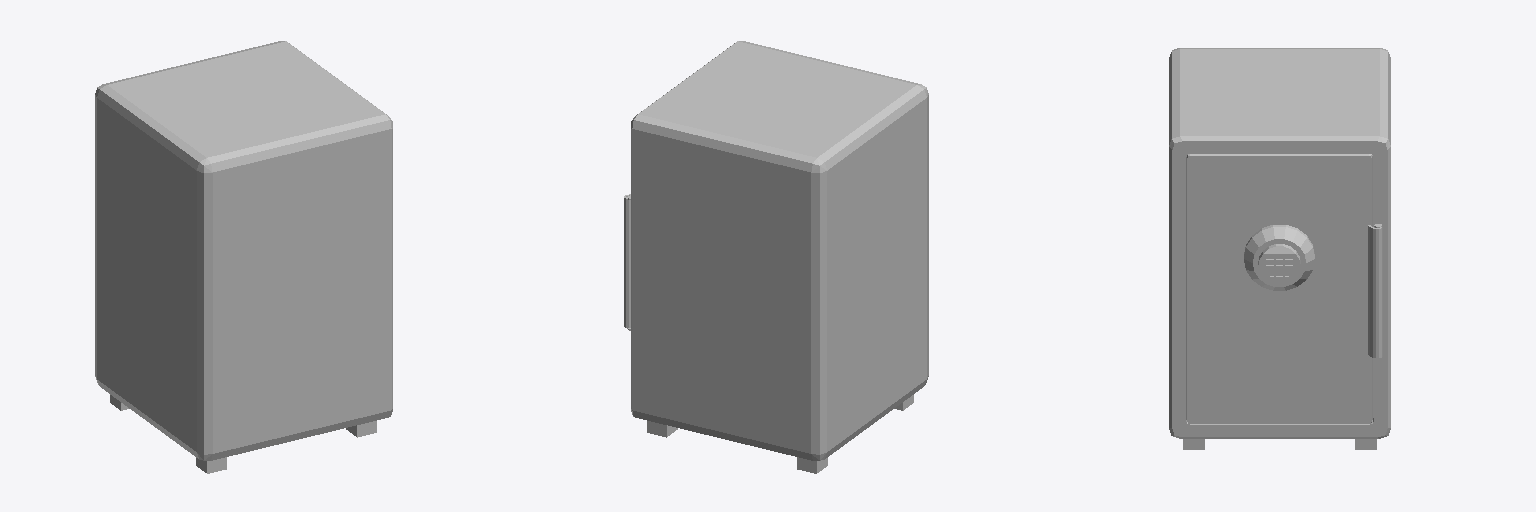
The model's file is safes.obj.
The picture shows the model from 3 angles: view 1: azimuth 30°, elevation 25°; view 2: azimuth 150°, elevation 25°; view 3: azimuth 270°, elevation 25°; orthographic projection.
Visible parts, largest first — view 1: SM_Safe; view 2: SM_Safe, SM_Safe_Door; view 3: SM_Safe_Door, SM_Safe.
Boxes of the visible parts, x1=… form: SM_Safe: x1=95, y1=41, x2=392, y2=473; SM_Safe: x1=627, y1=41, x2=928, y2=473; SM_Safe_Door: x1=624, y1=194, x2=630, y2=327; SM_Safe_Door: x1=1186, y1=154, x2=1382, y2=423; SM_Safe: x1=1169, y1=48, x2=1390, y2=449.
Bounding box in the file's own units: 0.4527 × 0.63 × 0.4.